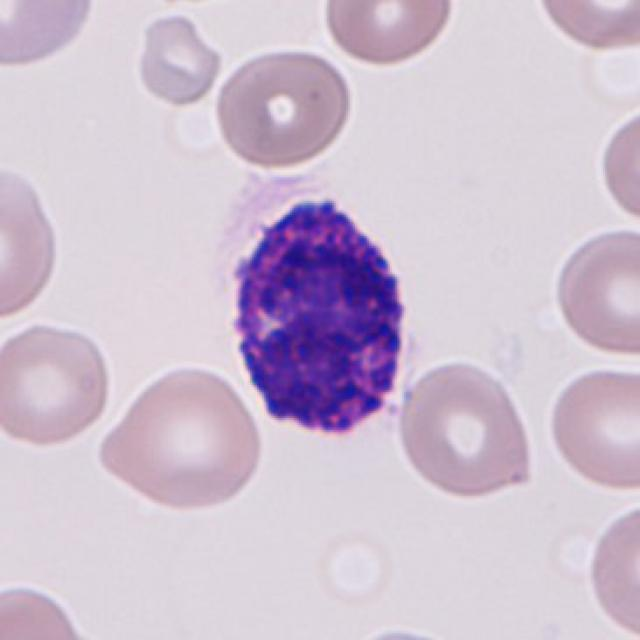Basophil: (213, 177, 427, 453)
RBC: (89, 359, 268, 513), (394, 354, 538, 501), (212, 43, 355, 172), (0, 317, 115, 452), (544, 361, 638, 494), (549, 222, 638, 361), (0, 156, 65, 328), (318, 0, 459, 69), (133, 10, 224, 110), (307, 522, 398, 611), (584, 494, 640, 638), (0, 0, 98, 71), (0, 577, 108, 640), (530, 0, 638, 56), (596, 102, 638, 229), (343, 624, 465, 640)
